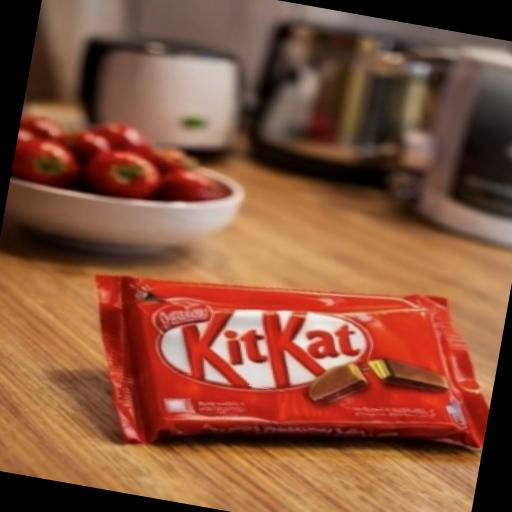kitkat: (20, 184, 512, 512)
